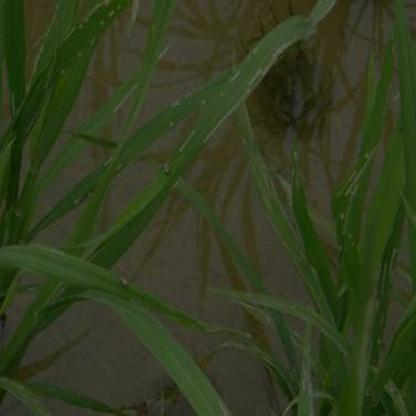rice-bug: (161, 158, 173, 176), (118, 274, 131, 289)
